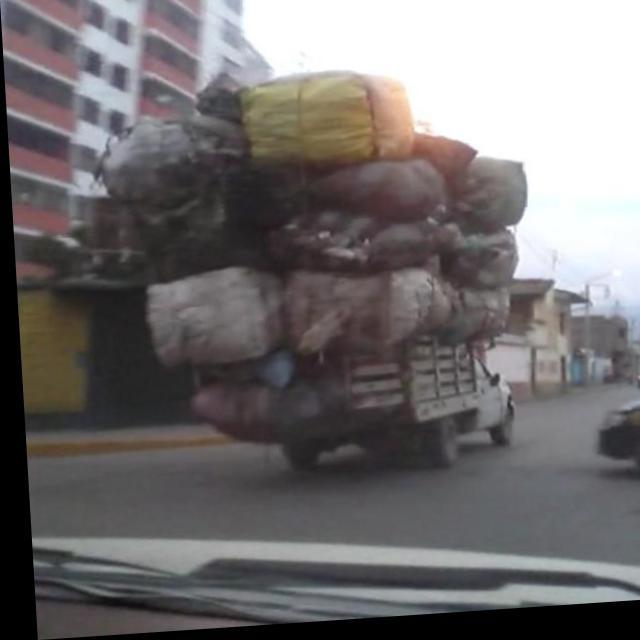uncovered: (84, 41, 540, 434)
